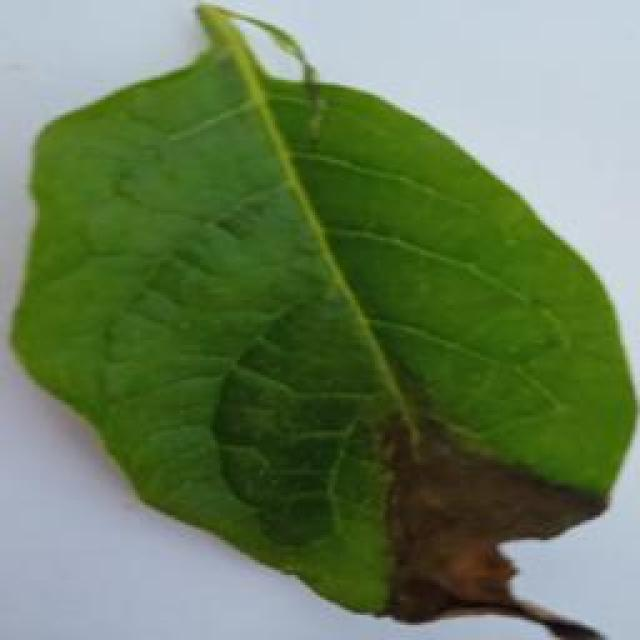Potato_Late_Blight: (9, 5, 625, 630)
